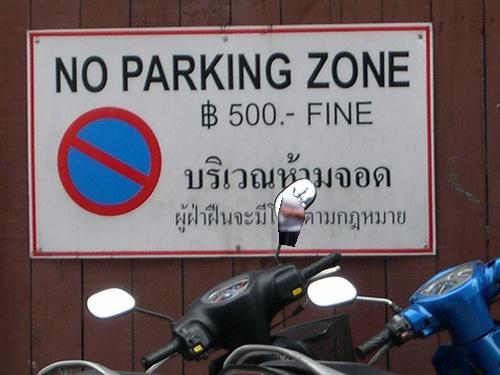tampered: (279, 197, 305, 247)
